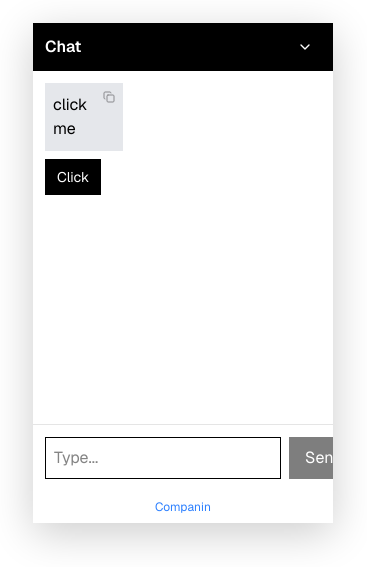
Scenario: EmbedShell - logo and avatar › button click wrappers and input handling › disables embedded flow button after click
Click the button "Click". click: point(73, 177)
box: [45,159,101,195]
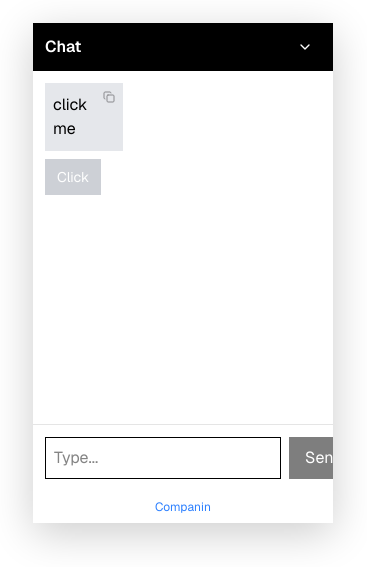
Result: the button "Click" is disabled at [45,159,101,195]
